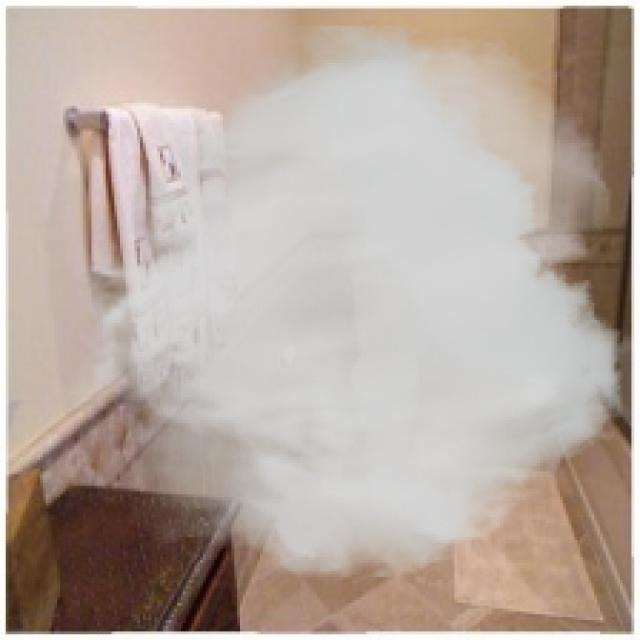smoke: (60, 26, 623, 586)
